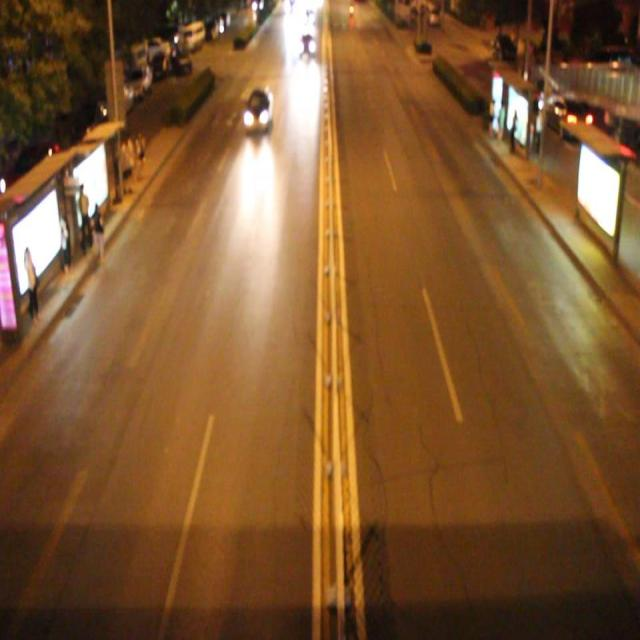car: (244, 86, 273, 130)
